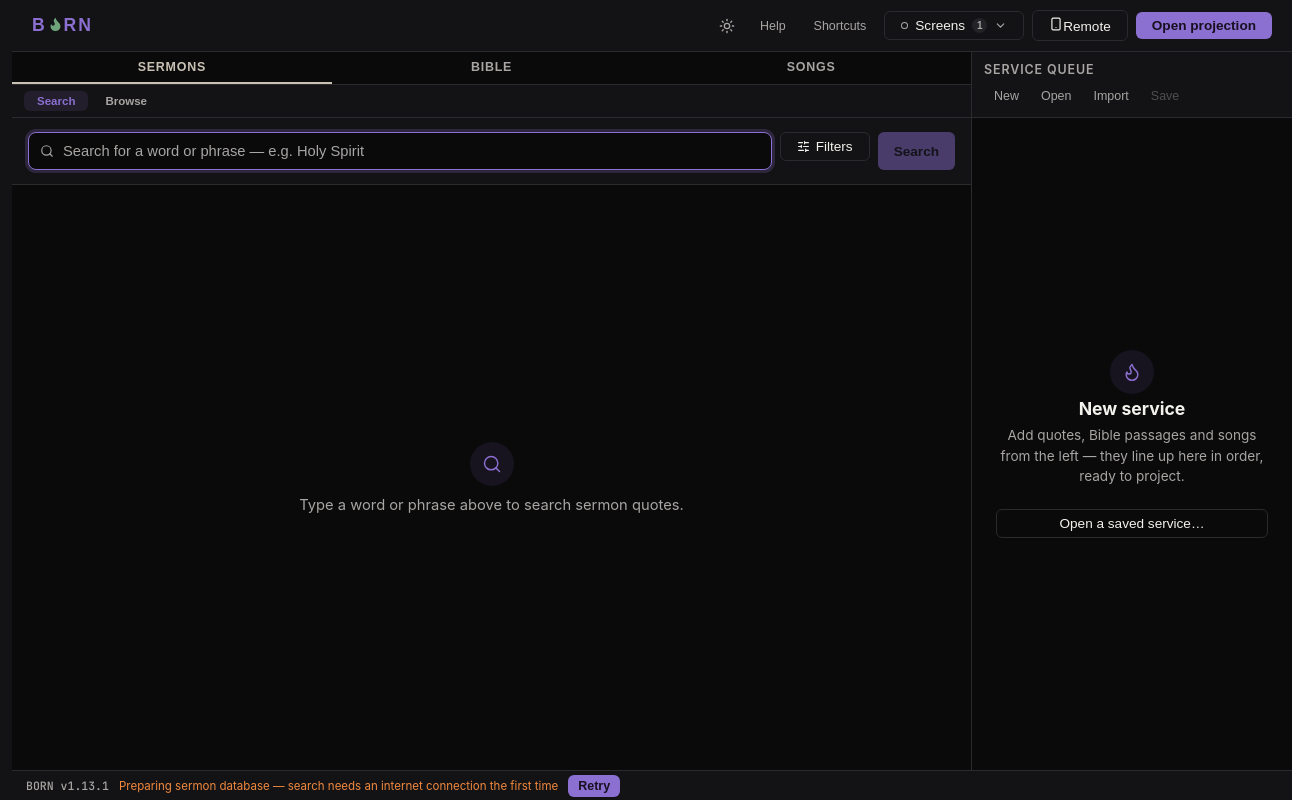
Test: Esc that closes something on top does not also blank › Import menu (Songs)
Press W
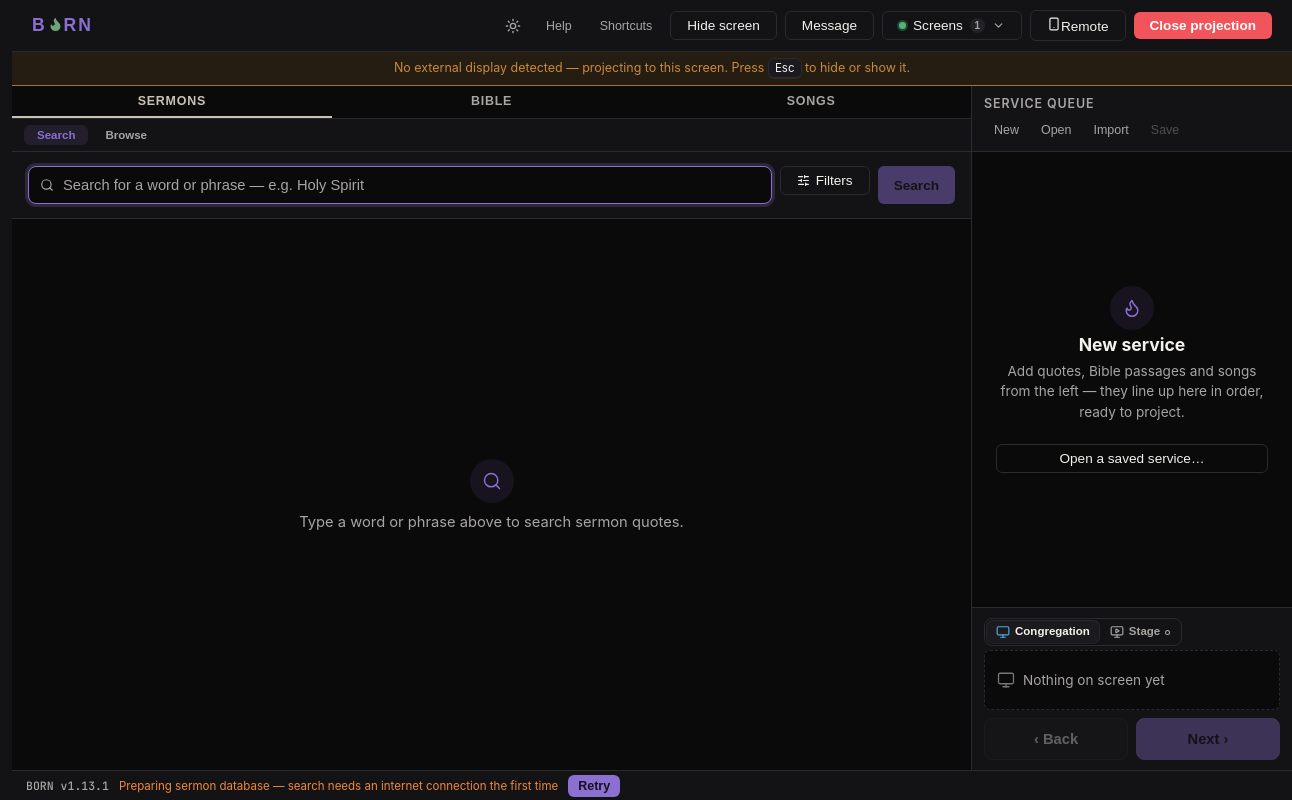
Click the button "Songs": (811, 102) [651,86,971,118]
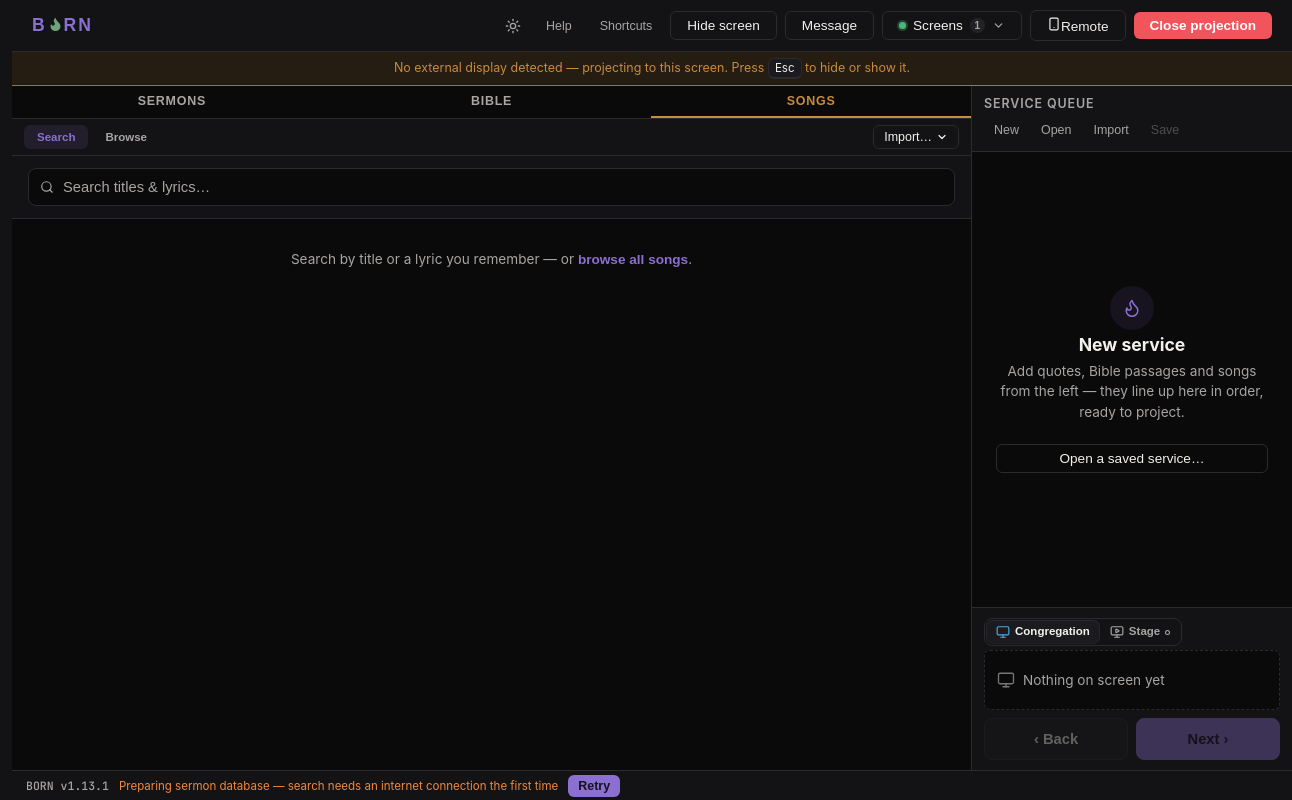
Click the button with class "songs-import-btn": (916, 137) [873,125,959,149]
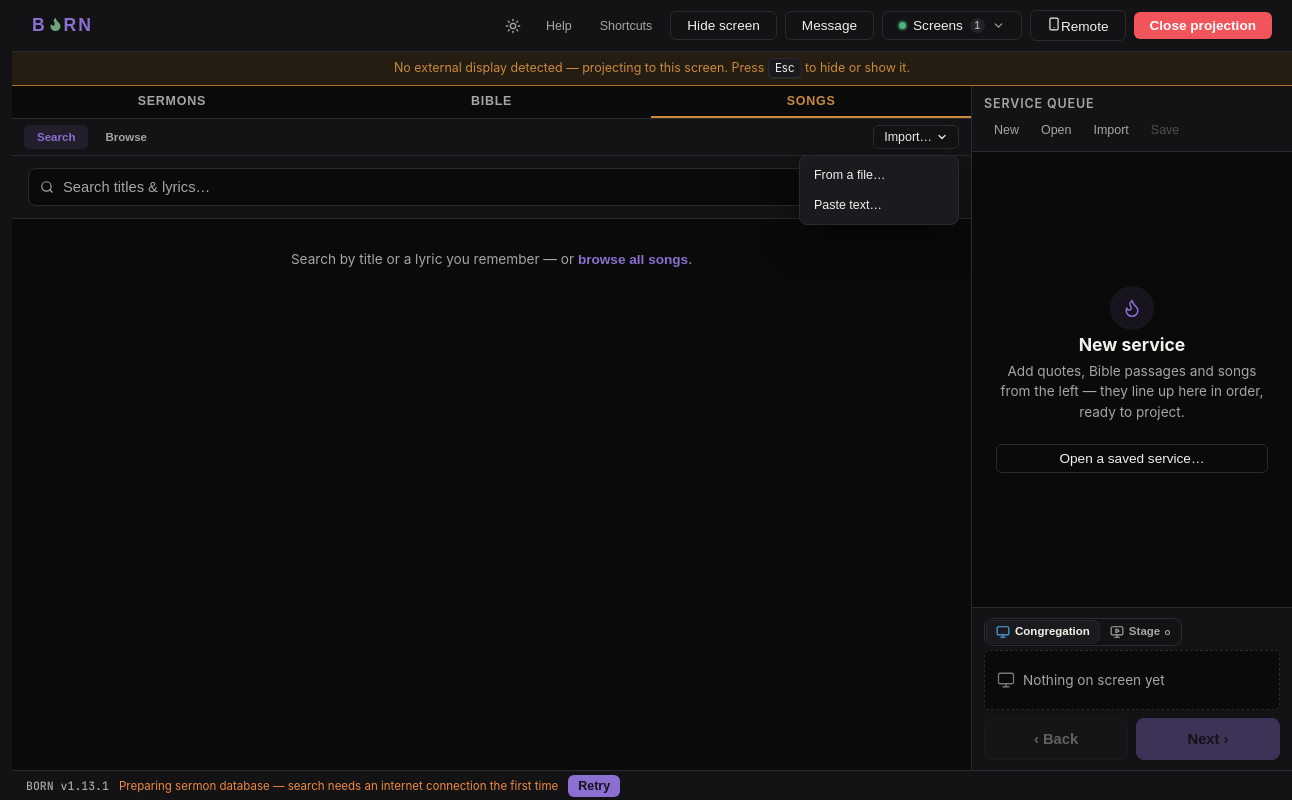
expect the menu with class "songs-import-popover" is shown: met, box [799,155,959,225]
Press Escape
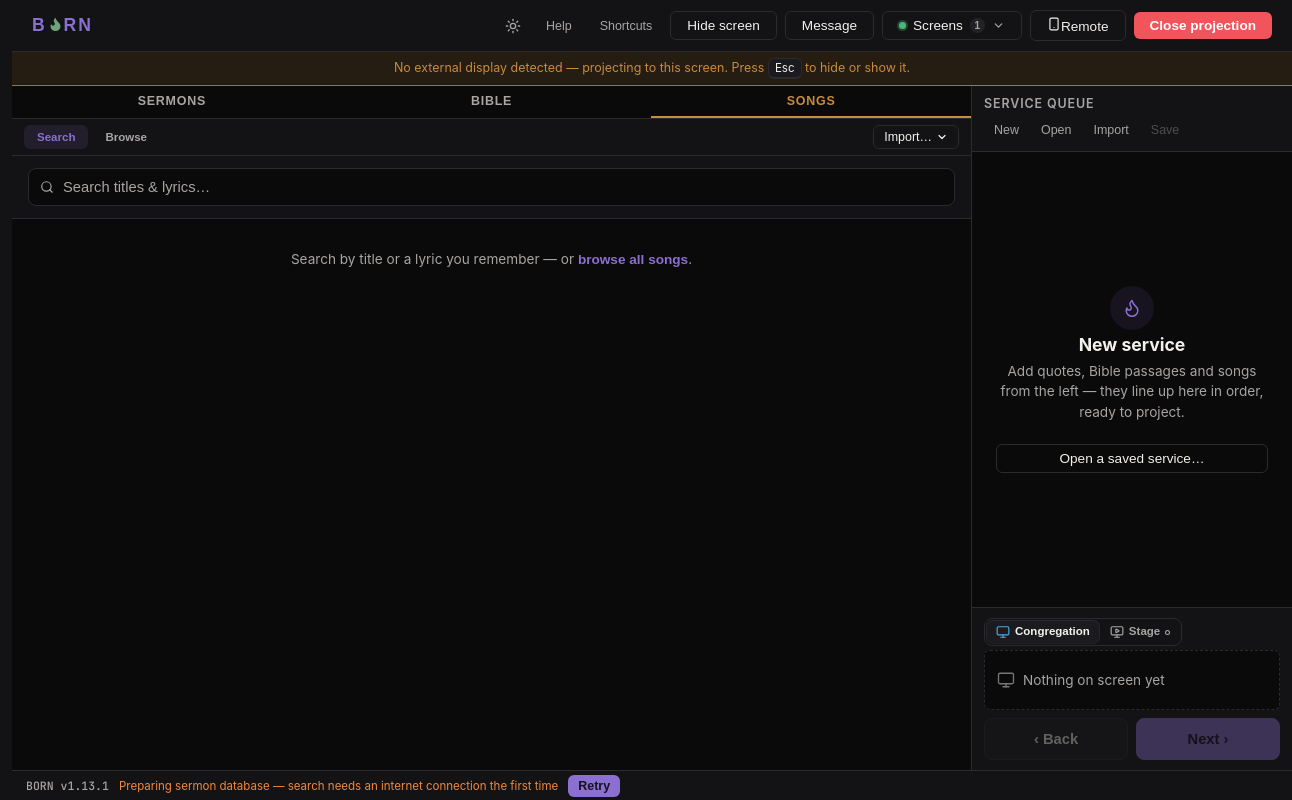
expect the menu with class "songs-import-popover" is gone: met
